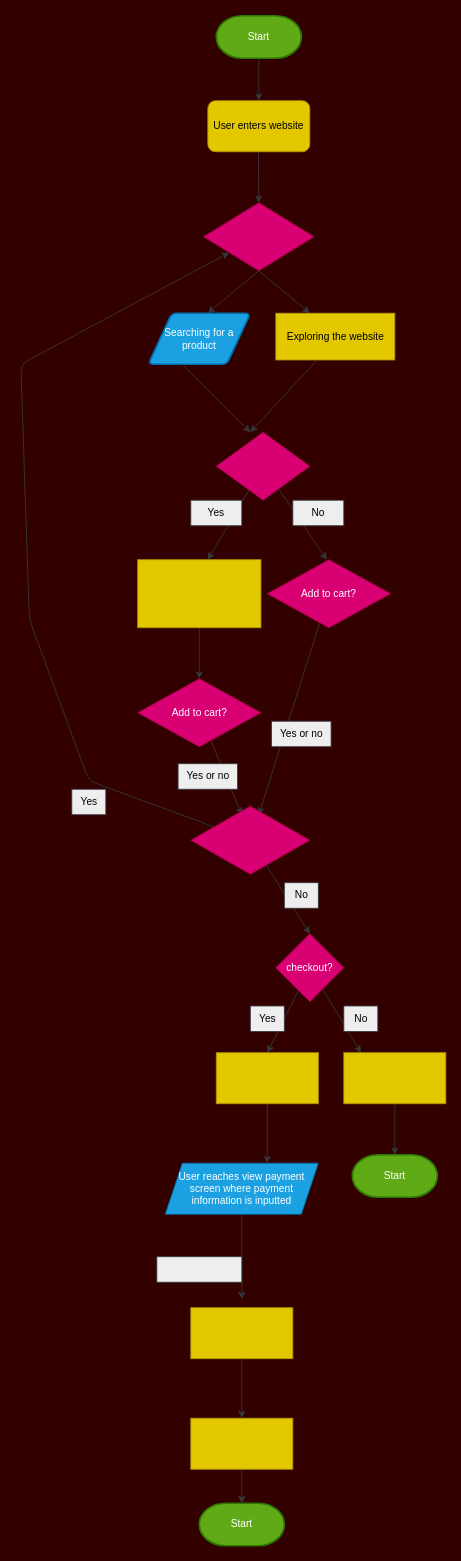
Image size: 461x1561. Some labels were removed from this diagram. Here are the shapes that lost their labels. From the top down, the centre of each, then its label:
point (258, 236): Searching/Exploring
point (262, 465): Viewing specific product
point (199, 593): Product webpage opens
point (250, 839): Continue shopping?
point (266, 1078): User reaches view cart screen
point (394, 1078): User leaves the website
point (199, 1269): After payment
point (241, 1333): Order confirmation screen is reached and user receives confirmation email
point (241, 1443): User leaves website
